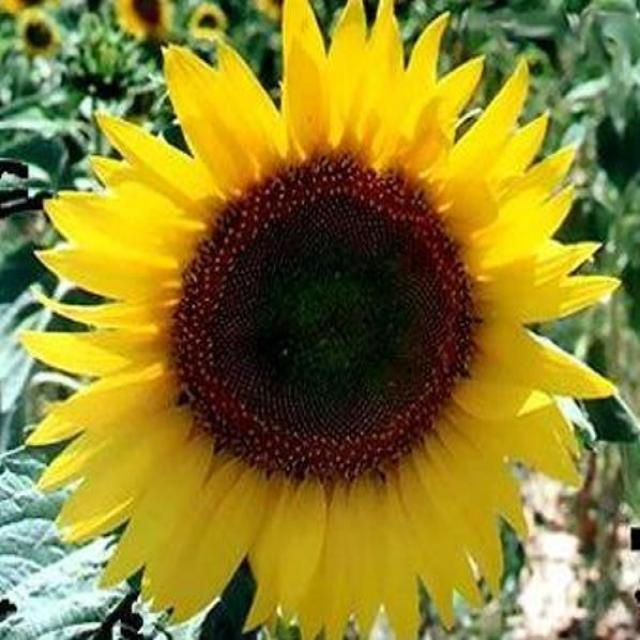sunflower: (19, 0, 621, 640), (184, 0, 237, 53), (109, 2, 179, 39), (15, 13, 66, 60), (253, 1, 297, 26), (0, 0, 45, 18)
